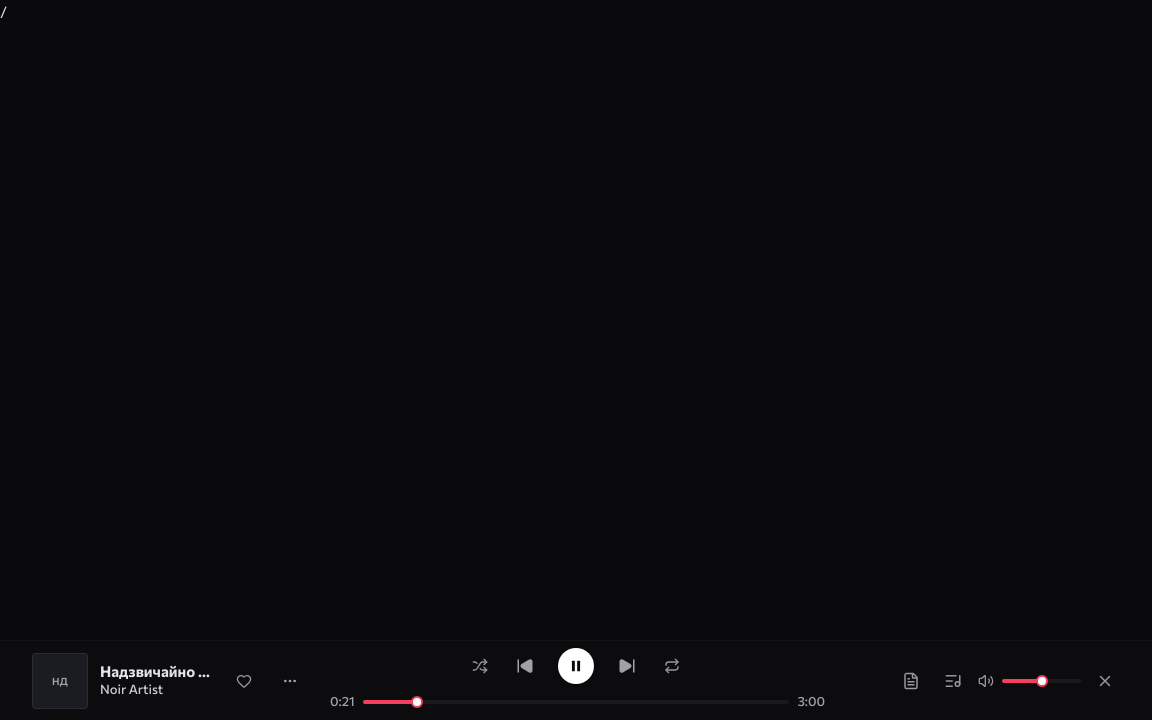
Test: lyrics UI › keeps a long title intact and opens its track page from fullscreen controls
Click the button named "Open fullscreen lyrics" at (911, 680), box [894,664,928,698]
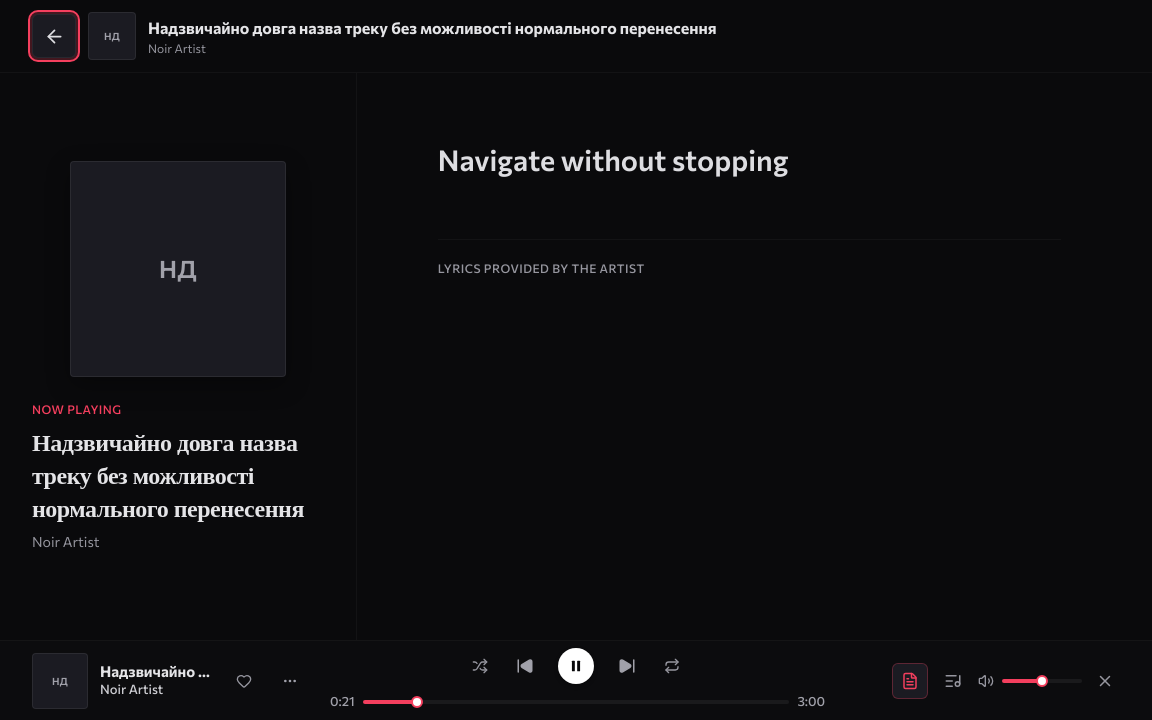
Click the link "Надзвичайно довга назва треку без можливості нормального перенесення" at (158, 672), box [100,662,216,682]
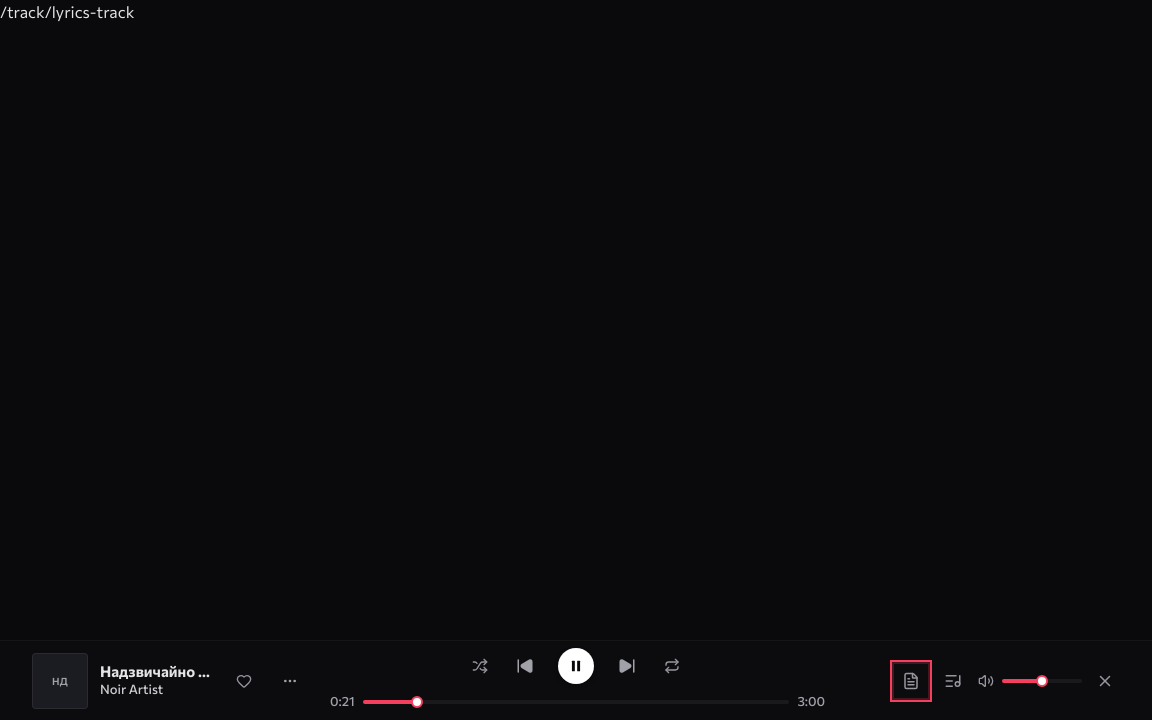
Expected: the dialog with test id "fullscreen-lyrics-player" is gone
